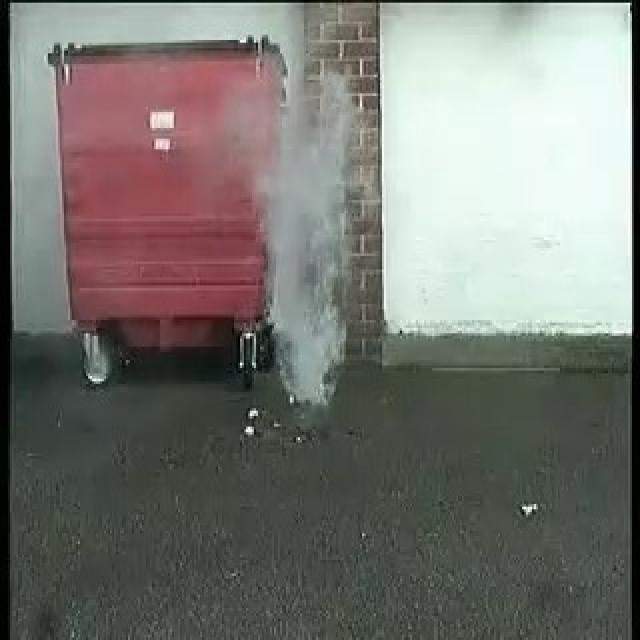smoke: (253, 70, 354, 406)
